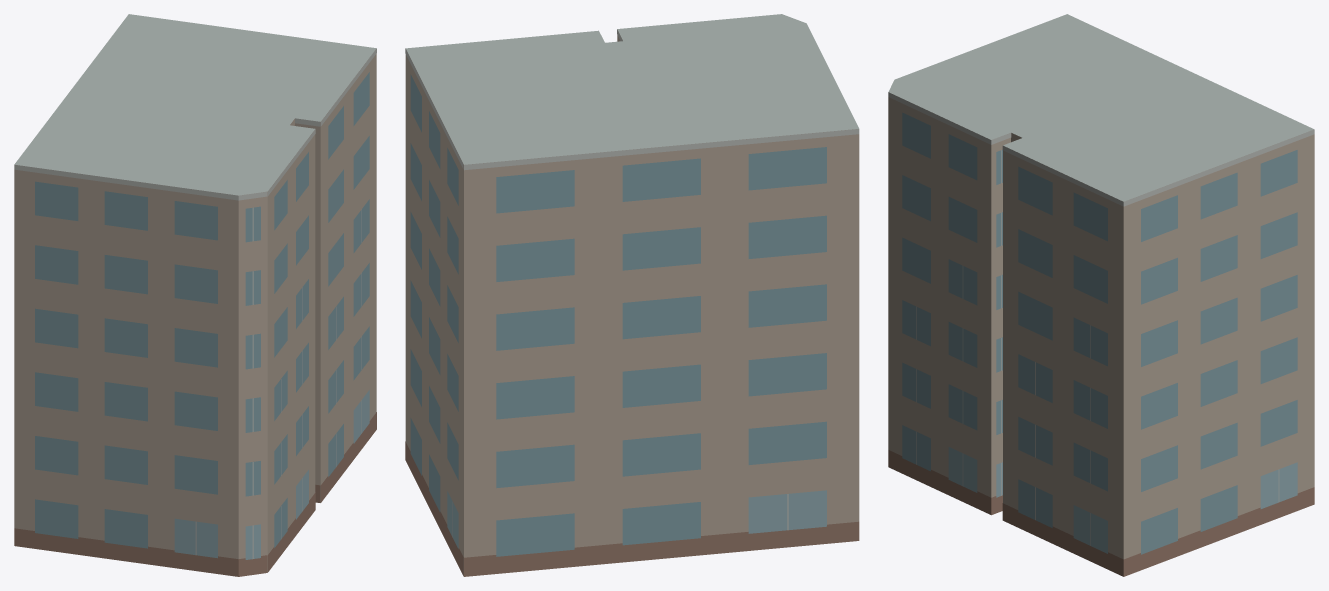
Rendered from survey-upis-32578430.glb.
The picture shows the model from 3 angles, left to right: view 1: azimuth 30°, elevation 25°; view 2: azimuth 150°, elevation 25°; view 3: azimuth 270°, elevation 25°; orthographic projection. The views are drawn at different scales.
Parts seen in each view (by area): view 1: survey-upis-32578430.tmp; view 2: survey-upis-32578430.tmp; view 3: survey-upis-32578430.tmp.
Part boxes in pixels (x1=…): survey-upis-32578430.tmp: x1=14, y1=14, x2=376, y2=576; survey-upis-32578430.tmp: x1=405, y1=14, x2=859, y2=576; survey-upis-32578430.tmp: x1=888, y1=14, x2=1314, y2=576.
Size of the model in its own units: 20.09 by 18.7 by 19.26.
